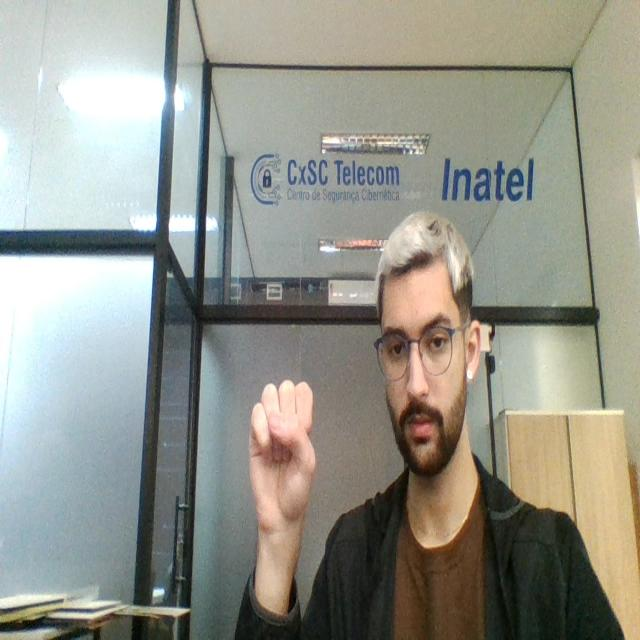S: (245, 375, 318, 530)
